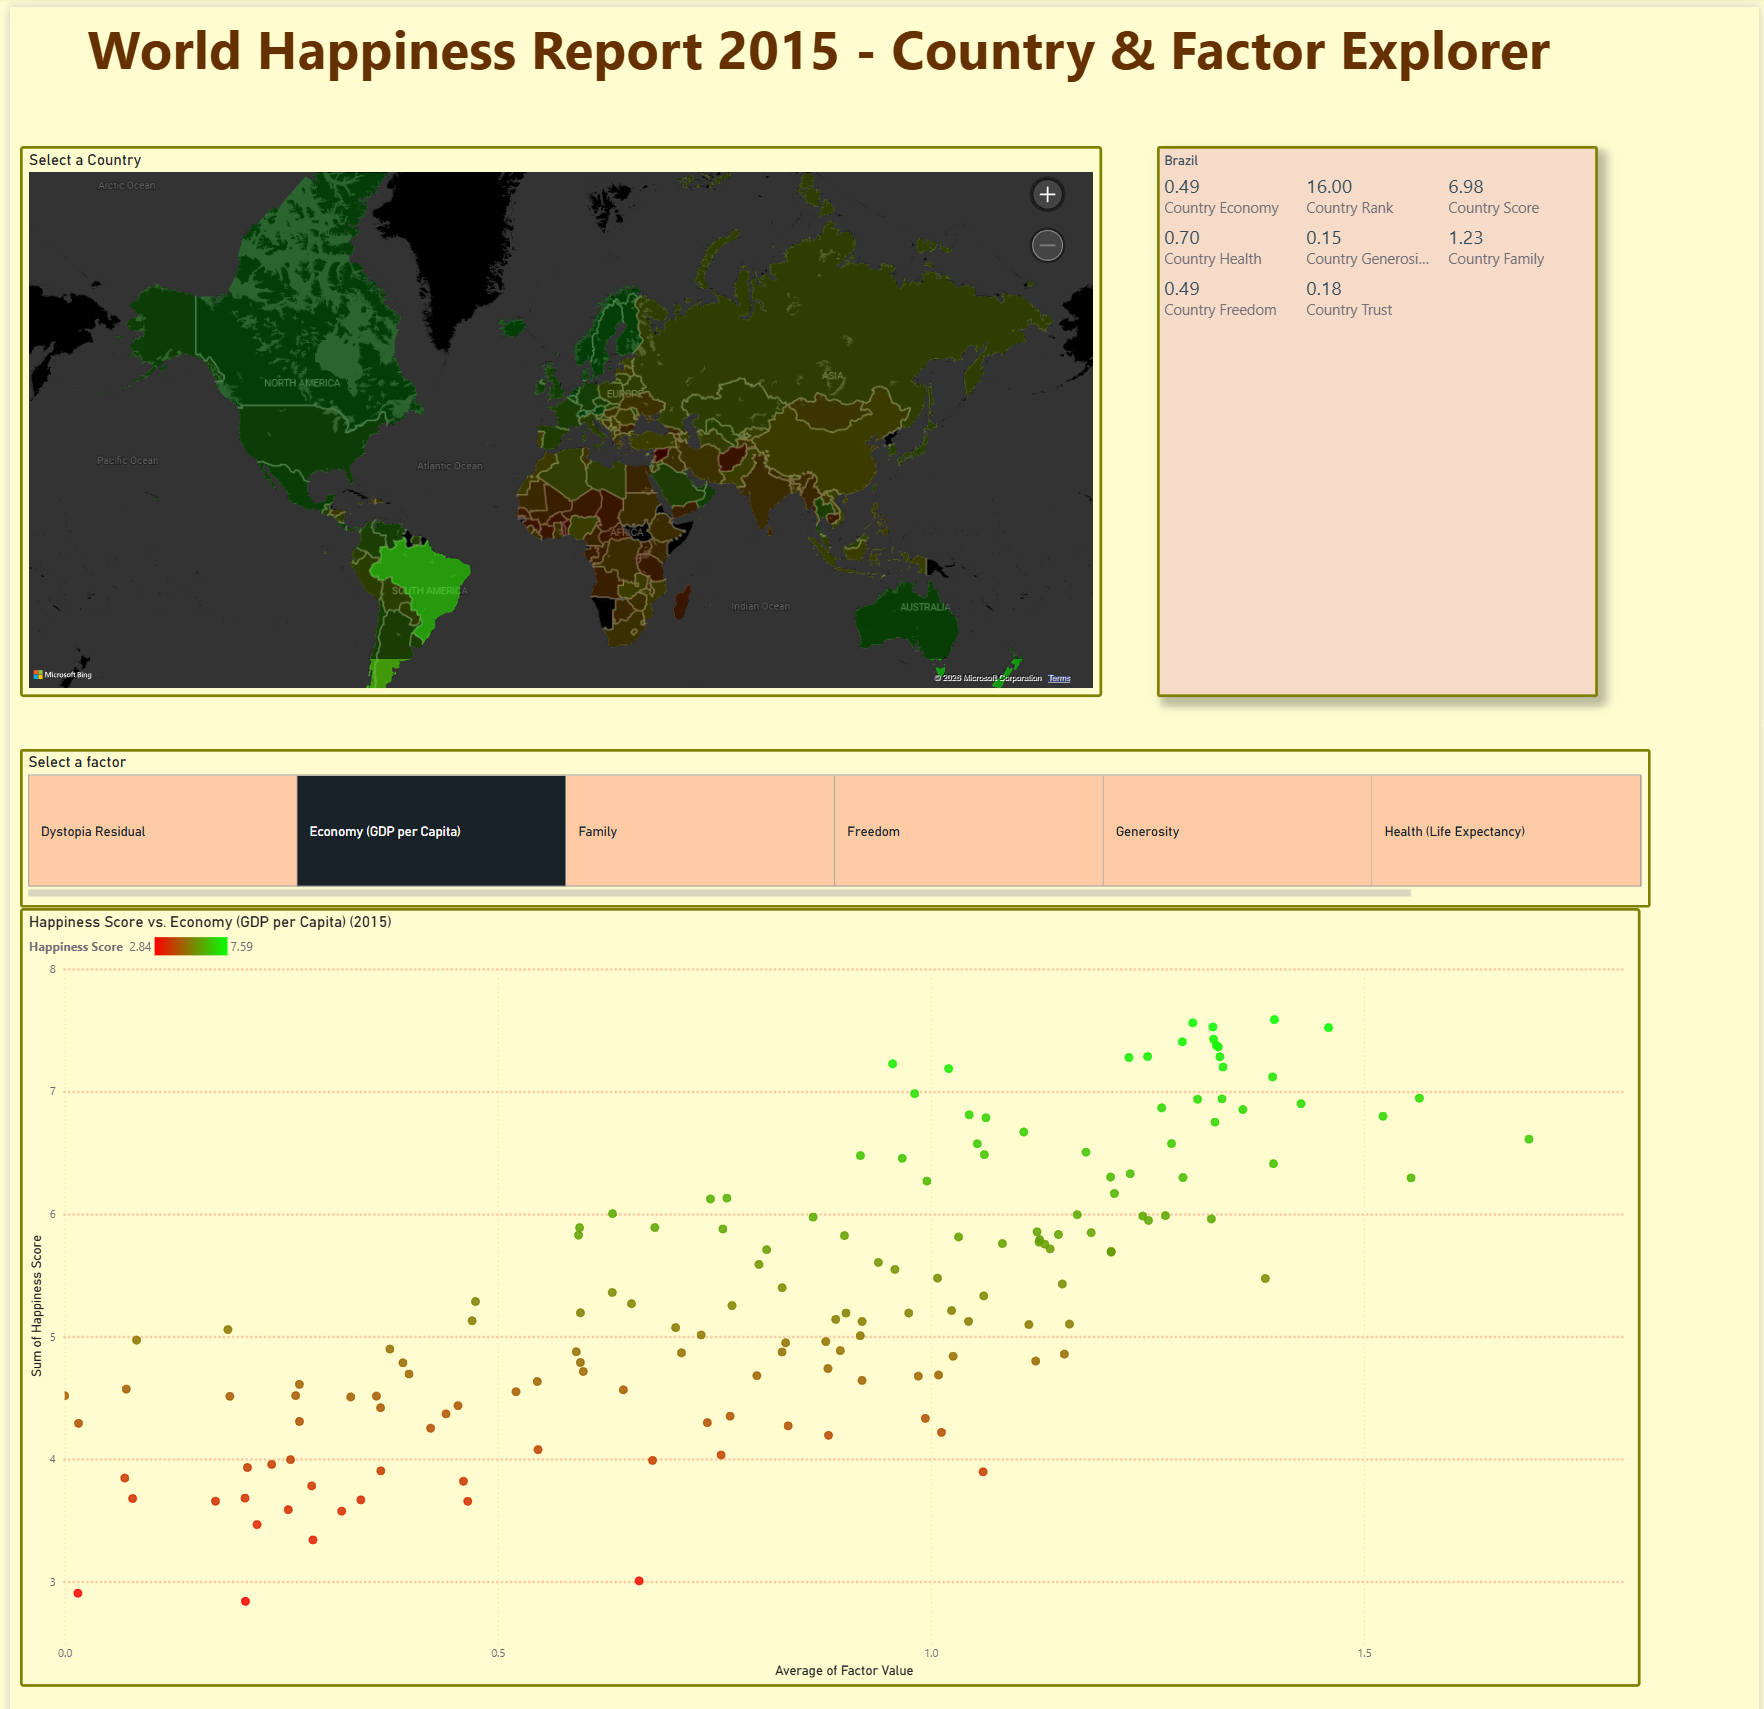

The page's visual inventory and layout, read from the dashboard file:
{"tool":"powerbi","page":{"name":"Country & Factor Explorer","canvas":[1920,3000],"ordinal":1},"visuals":[{"type":"filledMap","title":"Select a Country","fields":{"Category":["2015.Country"]},"box":[11.2,152.5,1187.5,605],"z":0},{"type":"multiRowCard","fields":{"Values":["2015.Selected Country Name","2015.Selected Country Economy","2015.Selected Country Happiness Rank","2015.Selected Country Happiness Score","2015.Country Happiness Health","2015.Country Happiness Generosity","2015.Country Happiness Family","2015.Country Happiness Freedom","2015.Country Happiness Trust"]},"box":[1258.8,152.5,483.8,605],"z":1000},{"type":"advancedSlicerVisual","title":"Select a factor","fields":{"Values":["2015_Unpivoted_Factors.Factor"]},"box":[11.4,1004.3,1778.6,172.9],"z":2000},{"type":"scatterChart","fields":{"X":["Avg(2015_Unpivoted_Factors.Factor Value)"],"Y":["Sum(2015_Unpivoted_Factors.Happiness Score)"],"Category":["2015_Unpivoted_Factors.Country"]},"box":[11.4,1177.1,1778.6,855.7],"z":3000},{"type":"textbox","box":[74.3,14.3,1627.1,91.4],"z":4000},{"type":"textbox","box":[11.4,854.3,1381.4,150],"z":4001}]}

Visuals, with their boxes on the page's 1920x3000 design canvas (x1, y1, x2, y2). These are canvas units, not pixel positions in the 1764x1709 screenshot, which may show the page scaled, cropped or inside an application window:
"Select a Country" filledMap: (left=11, top=152, right=1199, bottom=758)
multiRowCard - 2015.Selected Country Name x 2015.Selected Country Economy: (left=1259, top=152, right=1743, bottom=758)
"Select a factor" advancedSlicerVisual: (left=11, top=1004, right=1790, bottom=1177)
scatterChart - Avg(2015_Unpivoted_Factors.Factor Value) x Sum(2015_Unpivoted_Factors.Happiness Score): (left=11, top=1177, right=1790, bottom=2033)
textbox: (left=74, top=14, right=1701, bottom=106)
textbox: (left=11, top=854, right=1393, bottom=1004)
